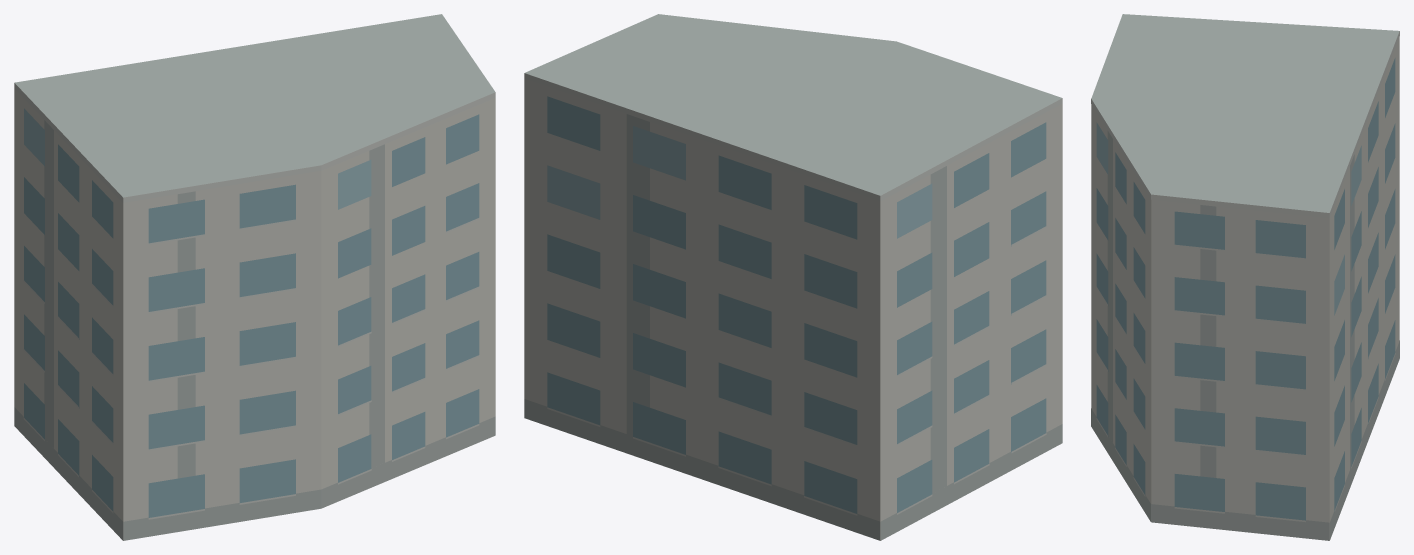
The model's file is survey-upis-32501236.glb.
3 views of the same model, side by side, from view 1: azimuth 30°, elevation 25°; view 2: azimuth 150°, elevation 25°; view 3: azimuth 270°, elevation 25° (orthographic). The views are drawn at different scales.
Parts seen in each view (by area): view 1: survey-upis-32501236.tmp; view 2: survey-upis-32501236.tmp; view 3: survey-upis-32501236.tmp.
Boxes of the visible parts, bbox=[...] form: survey-upis-32501236.tmp: bbox=[14, 14, 495, 540]; survey-upis-32501236.tmp: bbox=[524, 14, 1062, 540]; survey-upis-32501236.tmp: bbox=[1091, 14, 1399, 540].
Bounding box in the file's own units: 19.67 × 15.1 × 12.89.
